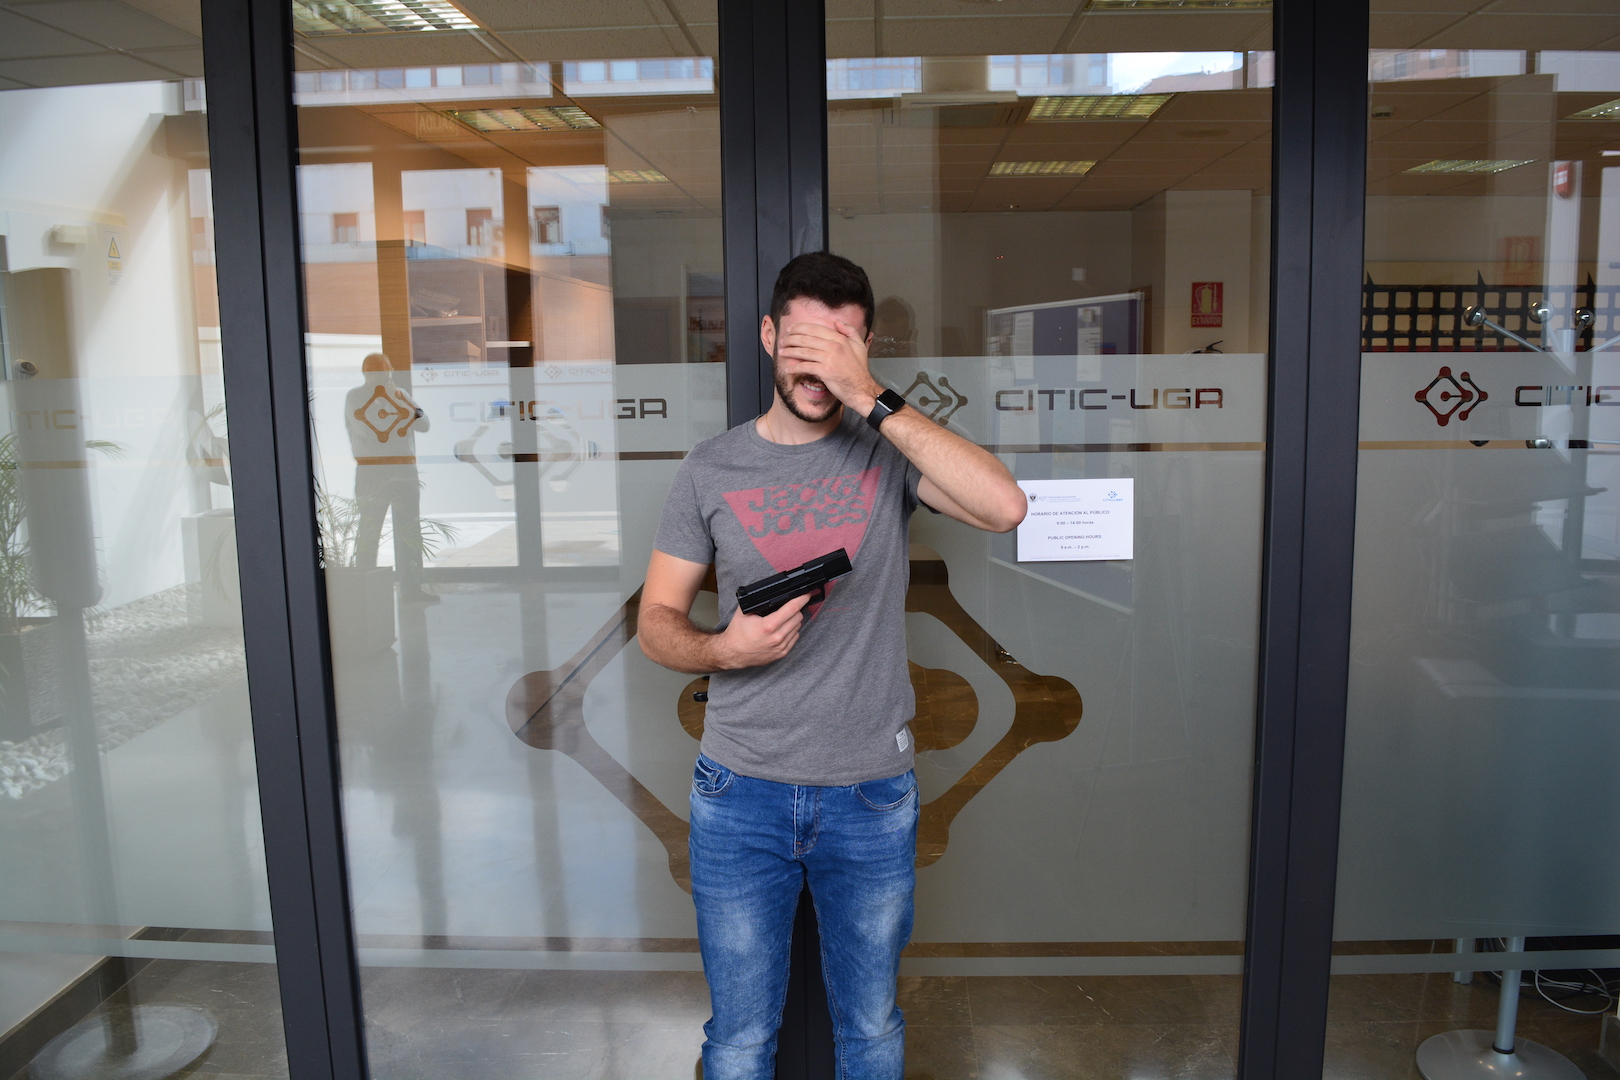pistol: (735, 547, 853, 618)
